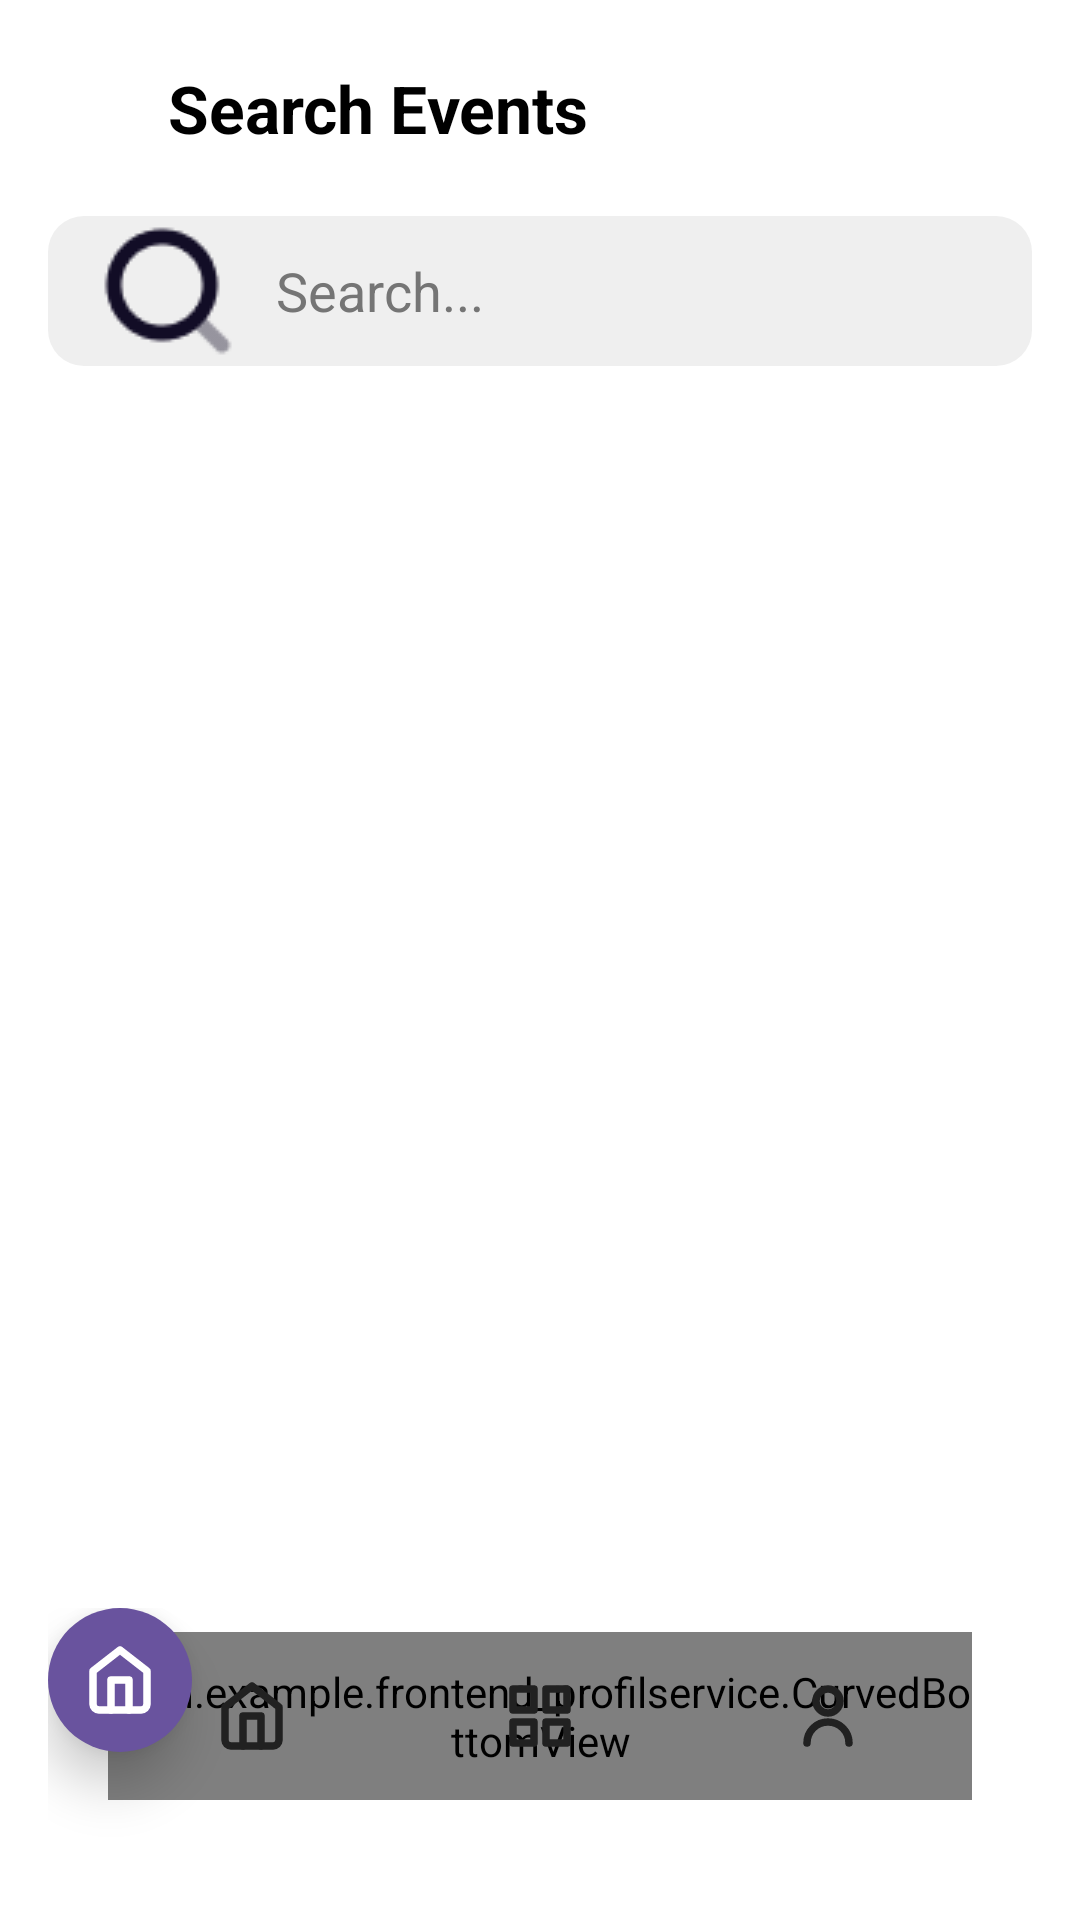

Icons on this 1080*1920 Android screen, each with its box as (x1, y1, x2, y2):
dashboard: (506, 1680, 575, 1752)
home: (89, 1646, 151, 1714), (216, 1682, 288, 1750)
profile: (793, 1680, 855, 1747)
